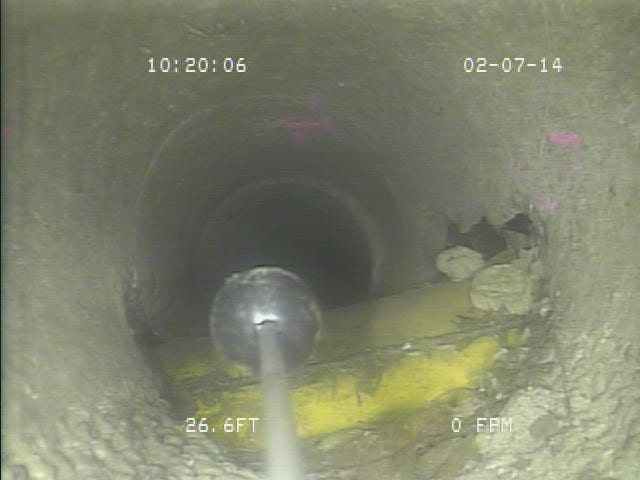cb: (120, 247, 575, 452)
